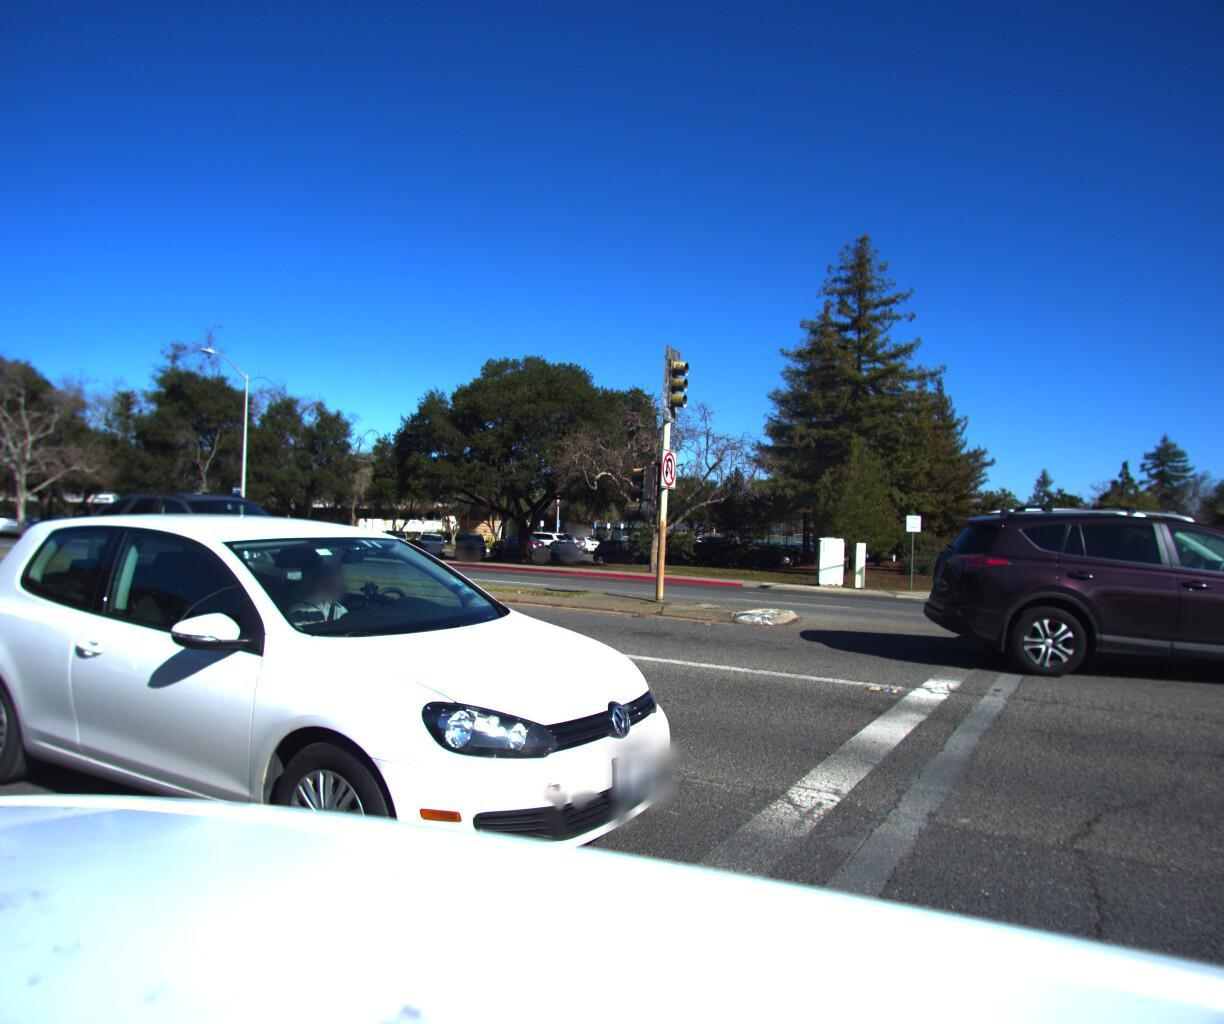car: (0, 502, 742, 1018), (909, 495, 1224, 700), (61, 476, 349, 608), (0, 505, 30, 536)
